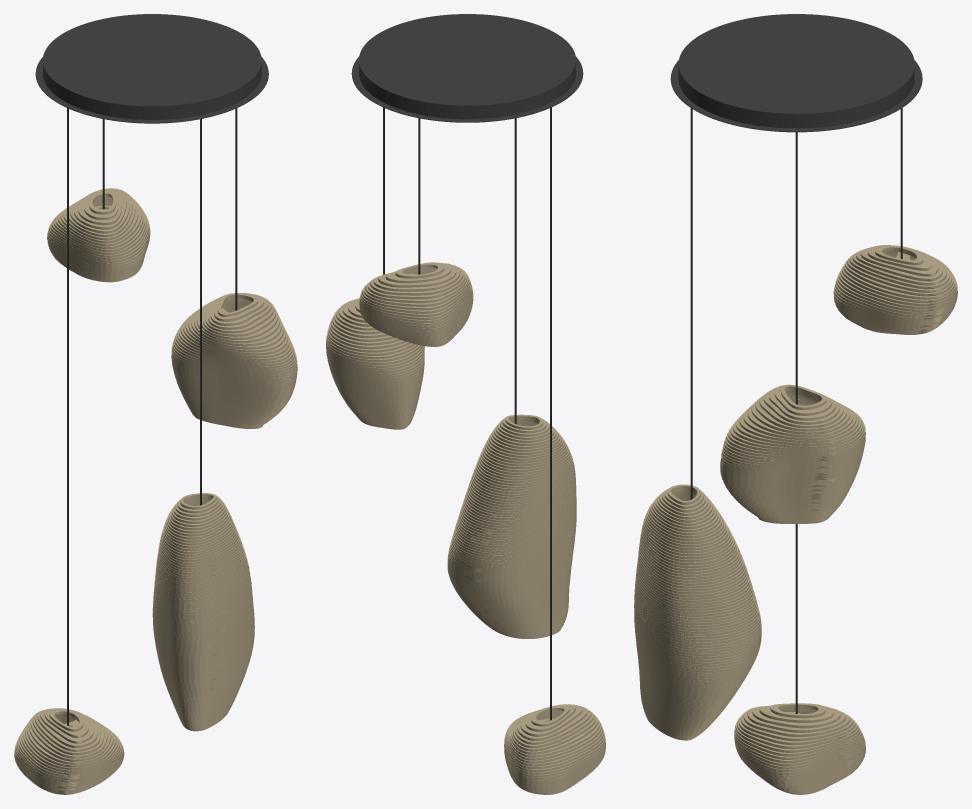
The picture shows the model from 3 angles, left to right: view 1: azimuth 30°, elevation 25°; view 2: azimuth 150°, elevation 25°; view 3: azimuth 270°, elevation 25°; orthographic projection. The views are drawn at different scales.
Size of the model in its own units: 0.7485 by 2 by 0.7711.
